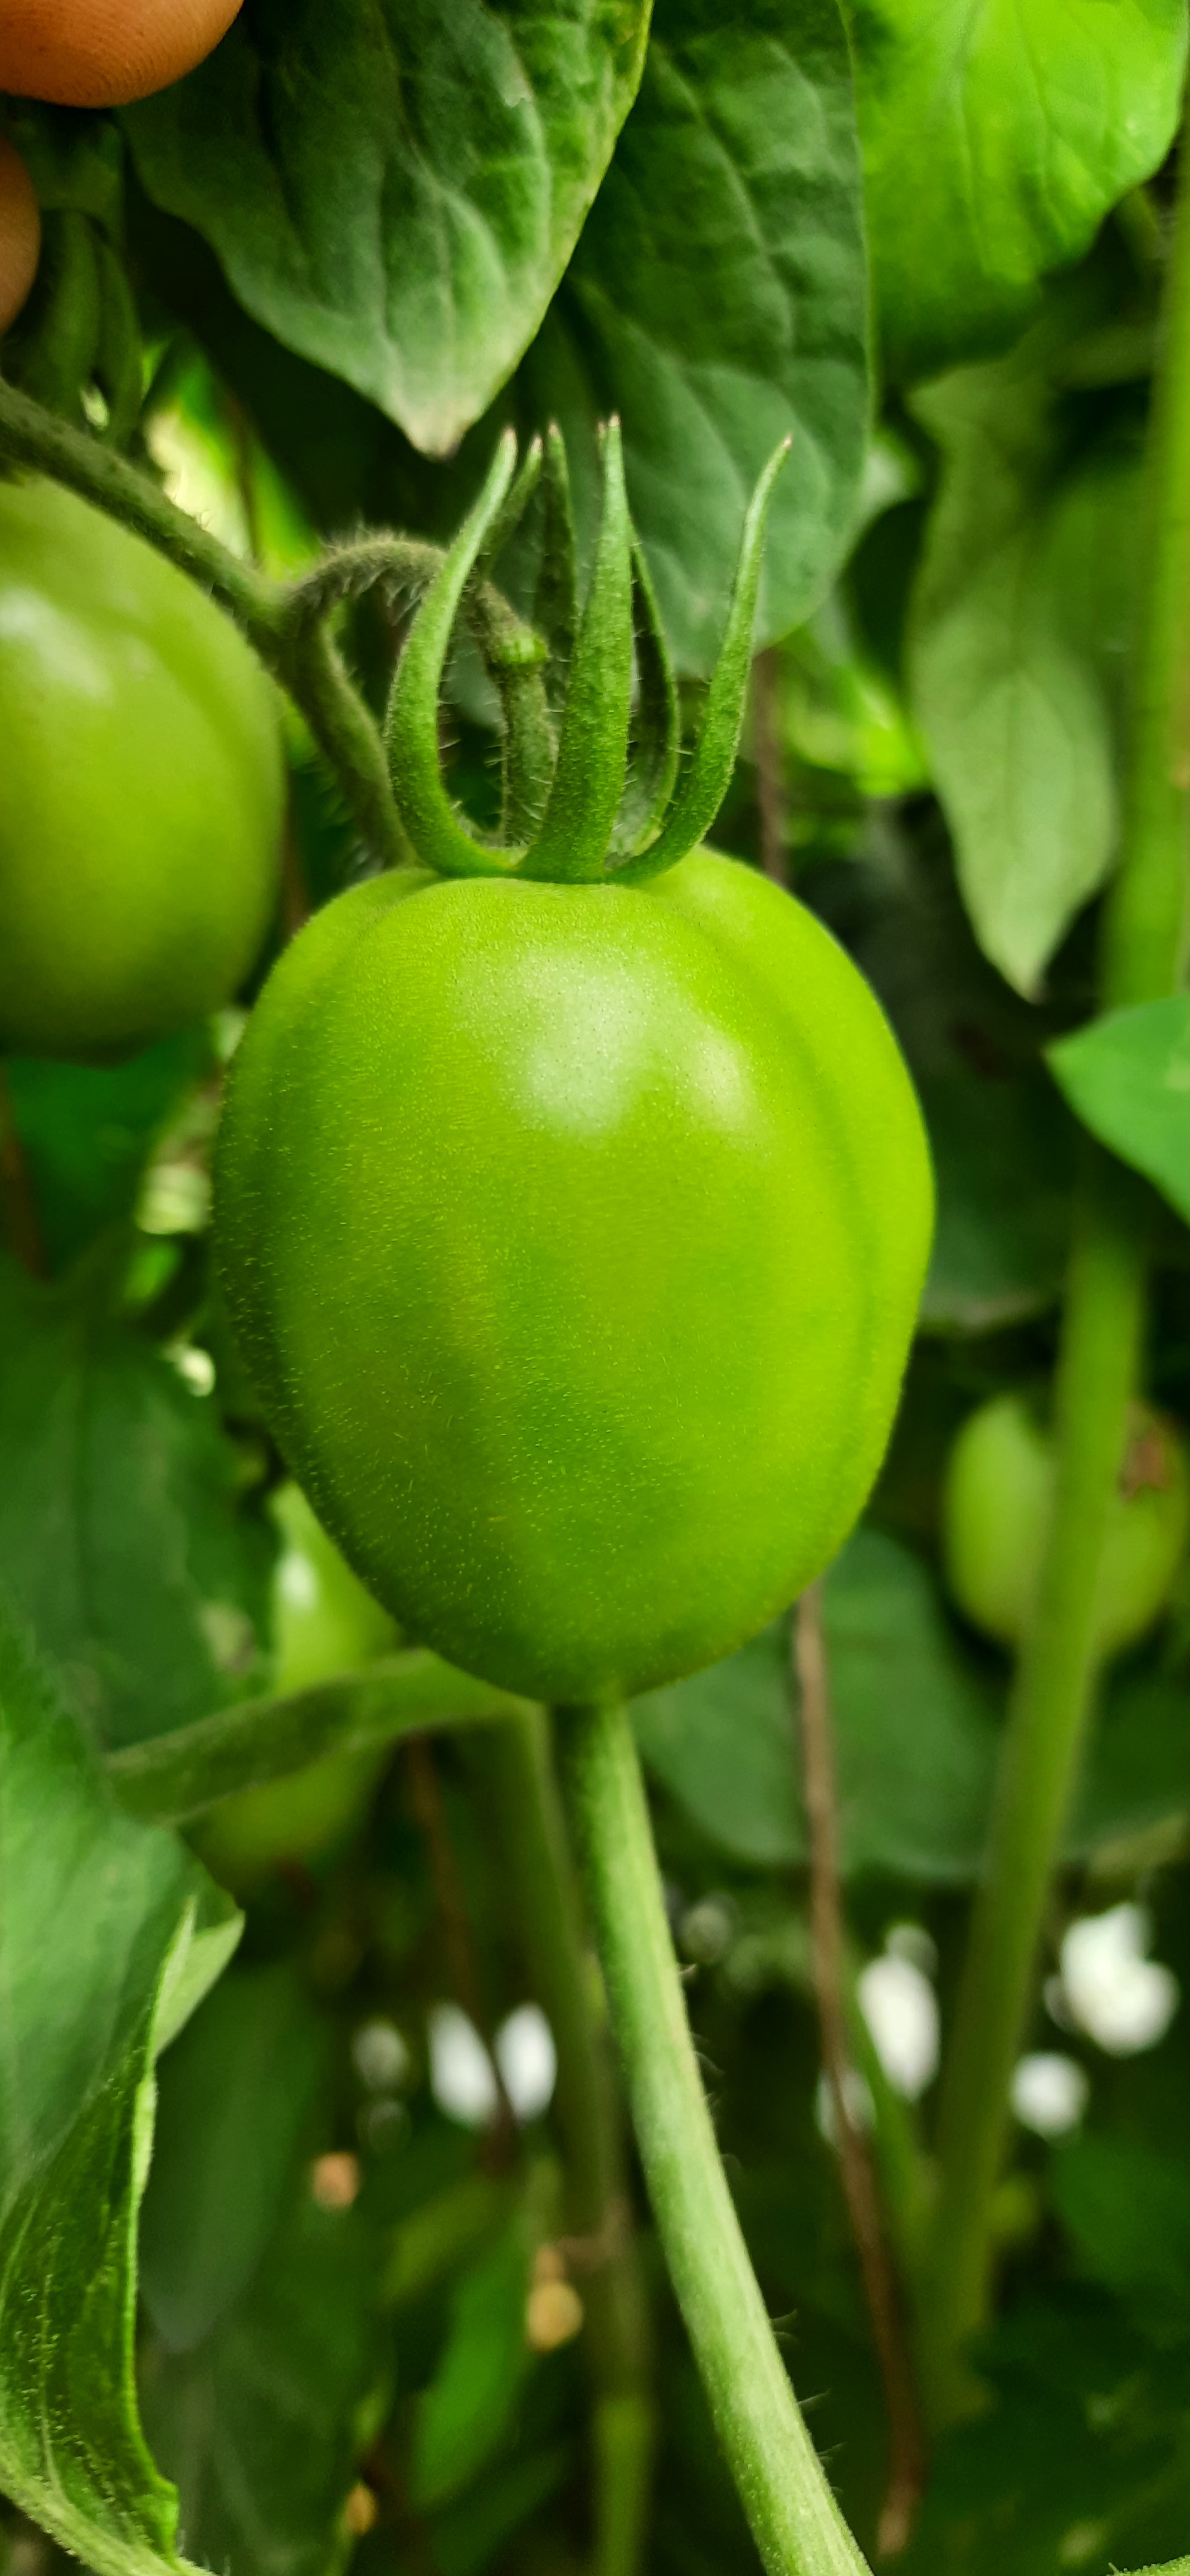raw_tomato: (196, 798, 1080, 1774)
